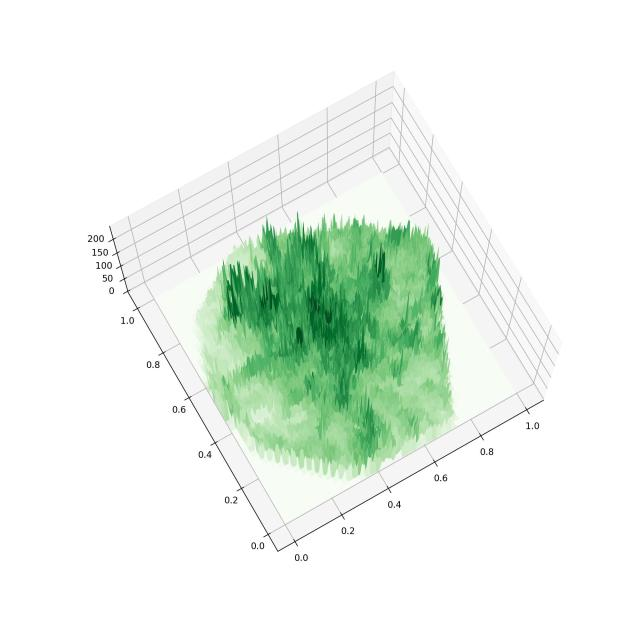spruce: (61, 31, 581, 573)
